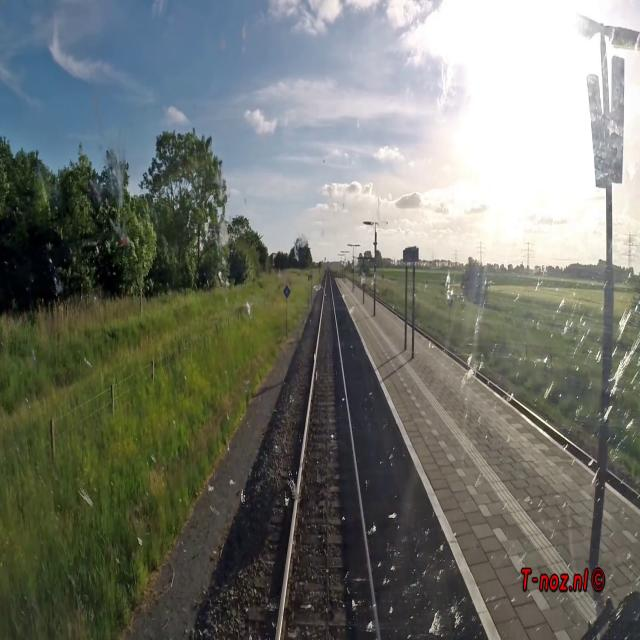rail-track: (280, 270, 376, 639)
